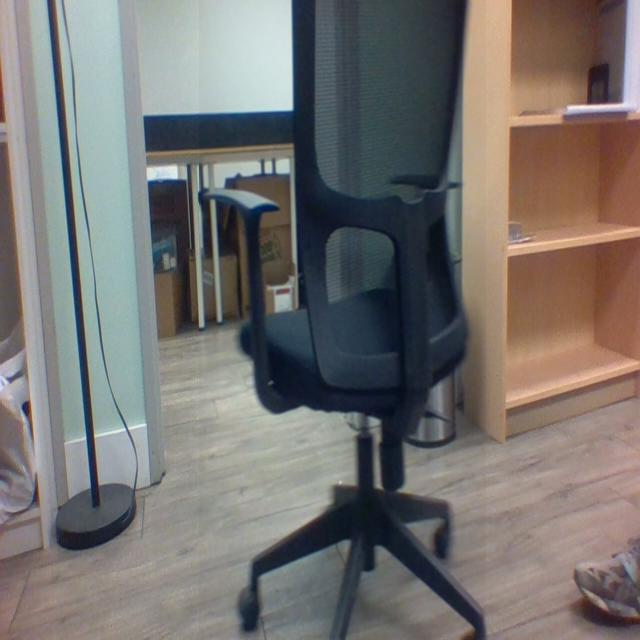black-chair: (199, 0, 487, 639)
